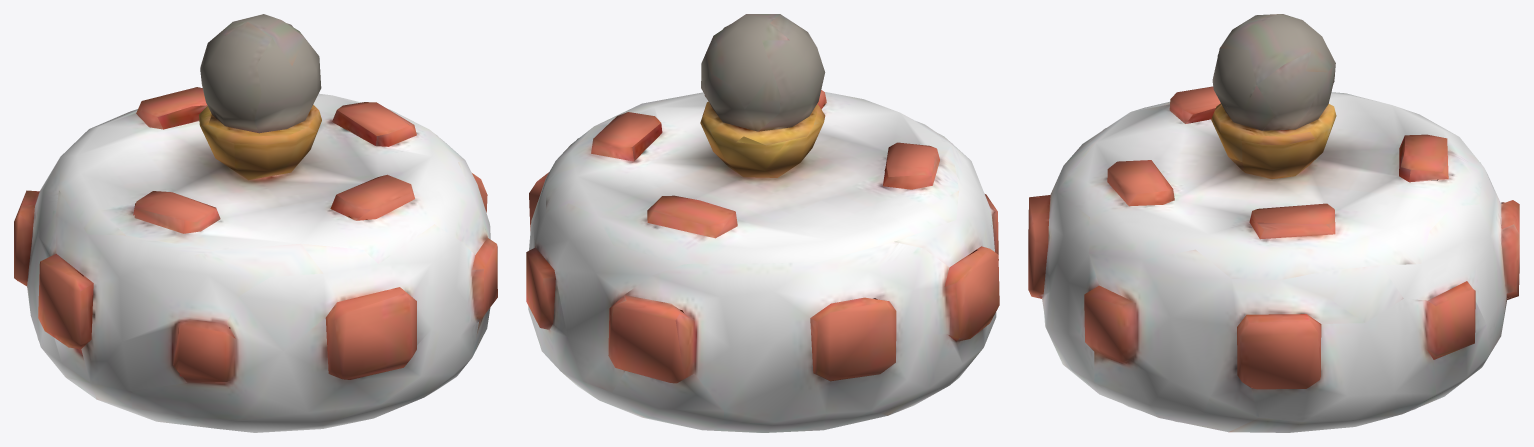
File: lg-quiet-sun-altar.glb
3 views of the same model, side by side, from view 1: azimuth 30°, elevation 25°; view 2: azimuth 150°, elevation 25°; view 3: azimuth 270°, elevation 25° (orthographic).
Parts seen in each view (by area): view 1: geometry_0; view 2: geometry_0; view 3: geometry_0.
Part boxes in pixels (box(x1,y1,x2,y2)): geometry_0: box(14, 14, 497, 432); geometry_0: box(526, 14, 999, 432); geometry_0: box(1028, 14, 1519, 432).
Size of the model in its own units: 0.9989 by 0.7506 by 1.
Materials: 1 (1 with a texture image).
